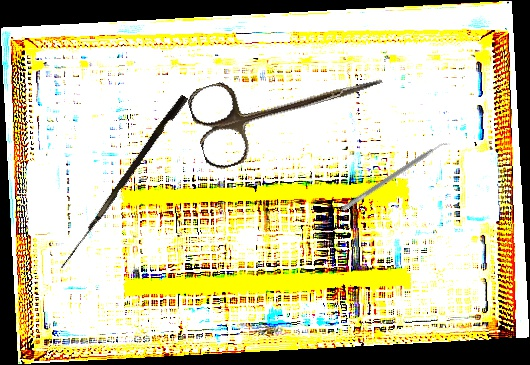Hook Surgical: (60, 92, 189, 274)
Iris Scissors: (184, 36, 394, 174)
Spatula Surgical: (340, 136, 453, 217)
